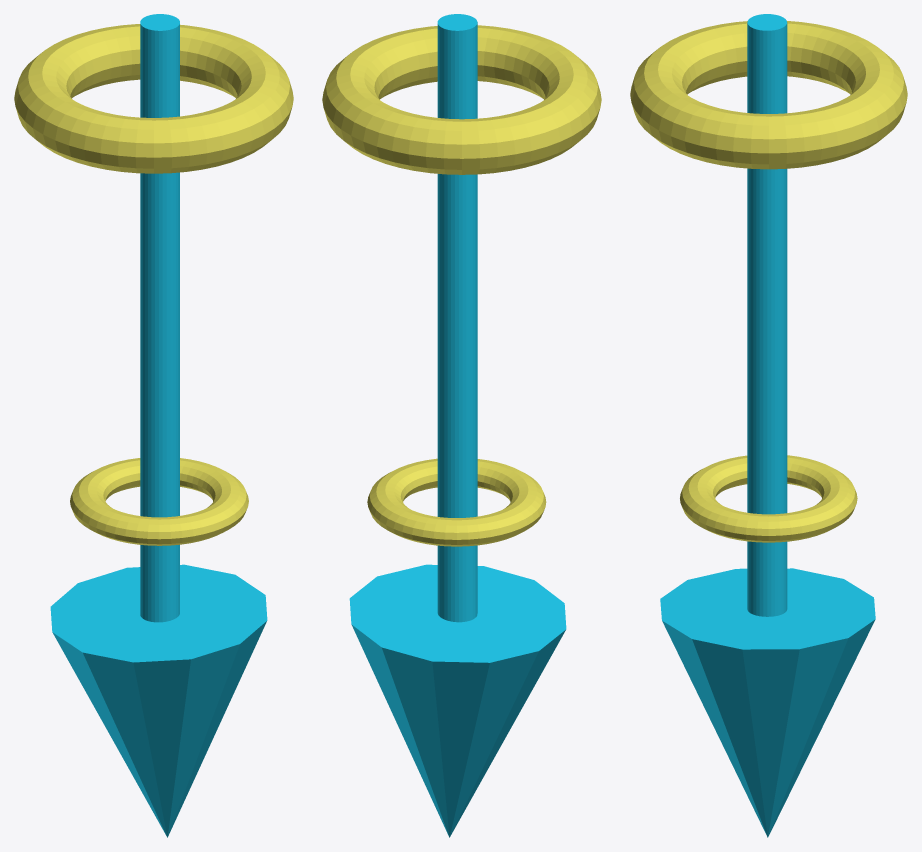
The model's file is 3DAxis.fbx.
The picture shows the model from 3 angles, left to right: view 1: azimuth 30°, elevation 25°; view 2: azimuth 150°, elevation 25°; view 3: azimuth 270°, elevation 25°; orthographic projection.
Visible parts, largest first — view 1: Torus.002; view 2: Torus.002; view 3: Torus.002.
Part boxes in pixels (bbox=[...]): Torus.002: bbox=[14, 14, 293, 837]; Torus.002: bbox=[322, 14, 601, 837]; Torus.002: bbox=[630, 14, 907, 837].
Size of the model in its own units: 924 by 2982 by 924.
